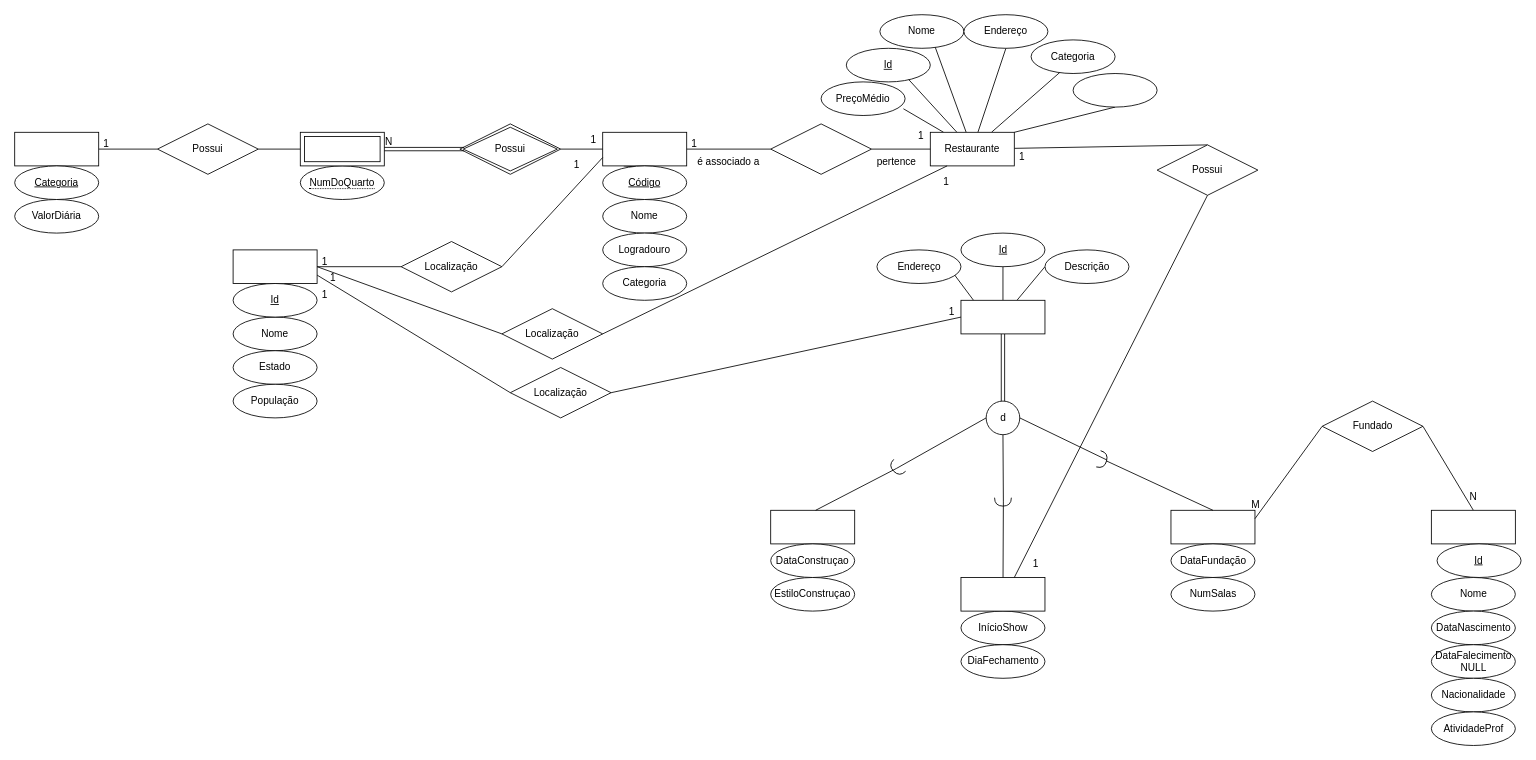
This 1536x760 diagram has some shape labels left out. The shapes that lost their labels are listed below. From the top down, each one's centre as x and y in pixels, then its label:
point 1114,90: Especialidade
point 56,148: Tipo
point 341,148: Quarto
point 644,148: Hotel
point 821,148: Associado
point 274,266: Cidade
point 1002,316: PontosTurísticos
point 812,526: Igreja
point 1212,526: Museus
point 1473,526: Fundadores
point 1002,594: CasasDeShow
